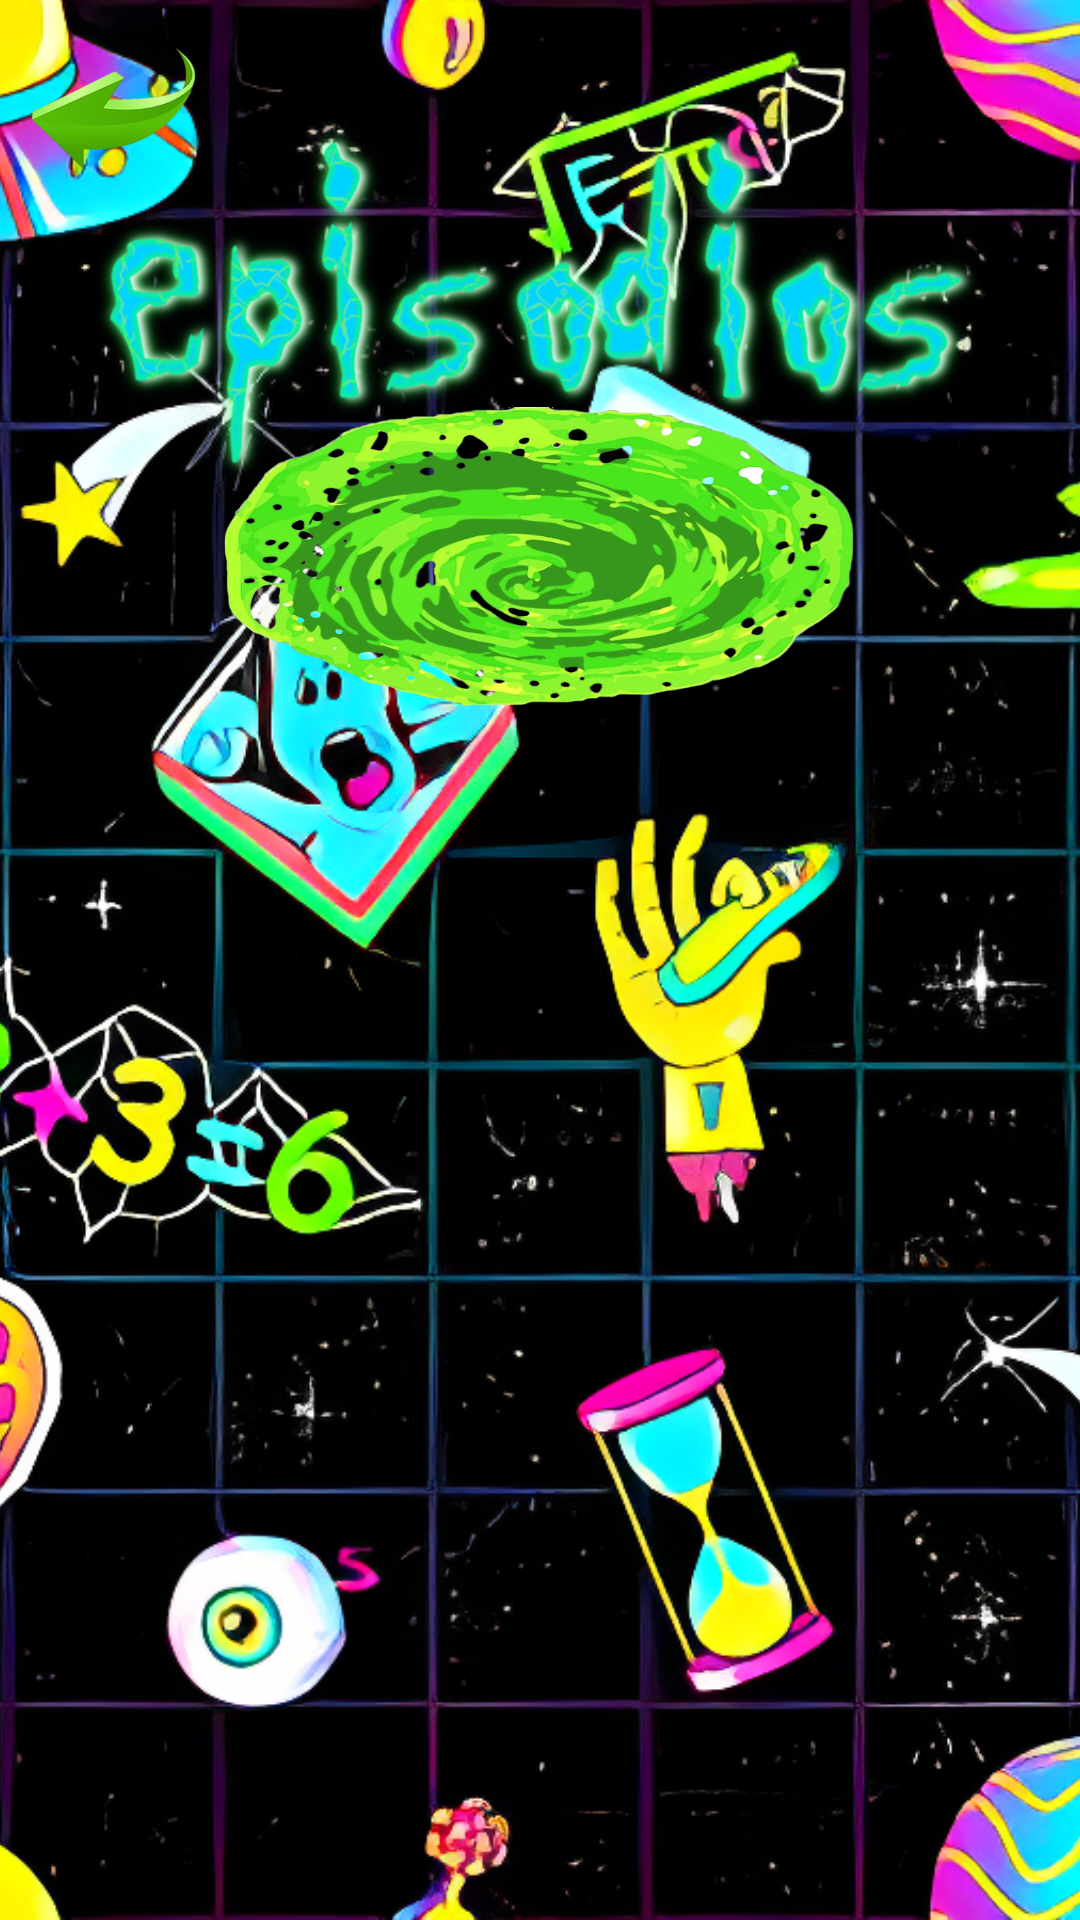

Point at icon controls on the screen. Image size 1080×1920, points as [x,y].
flechaatras: [112,112]
